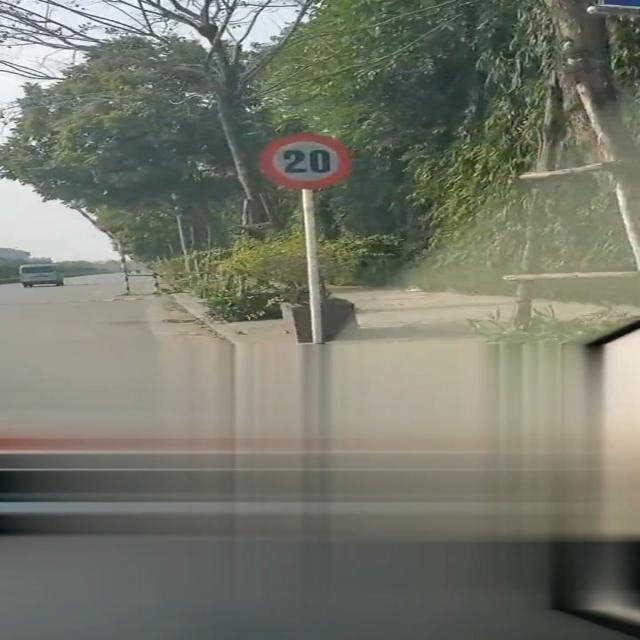127-toc-do-toi-da-20: (262, 132, 352, 188)
